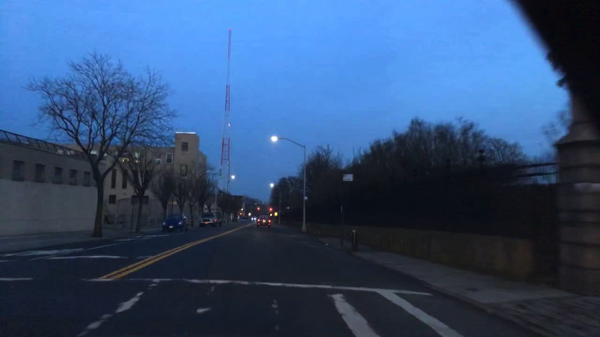car: (161, 213, 188, 233), (198, 213, 221, 226), (255, 216, 271, 228), (241, 216, 249, 224), (250, 217, 258, 223)
traffic light: (268, 206, 271, 213), (274, 211, 277, 218), (257, 206, 258, 213)
